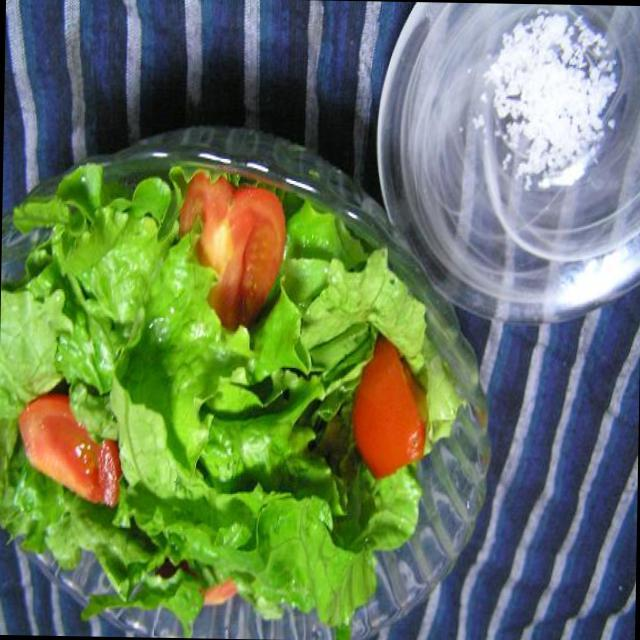Green Salad: (12, 187, 440, 629)
